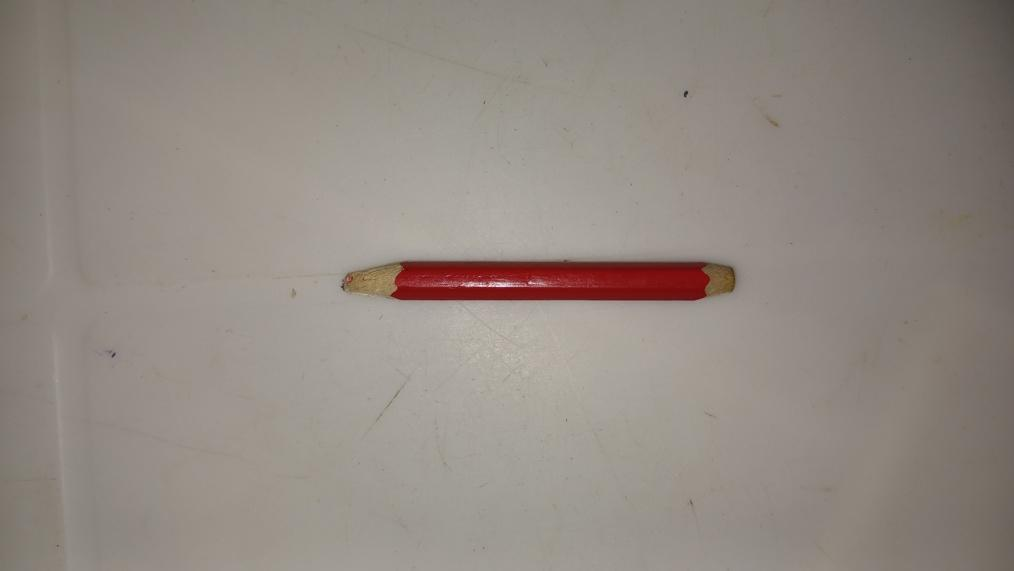Pencil: (340, 259, 738, 301)
